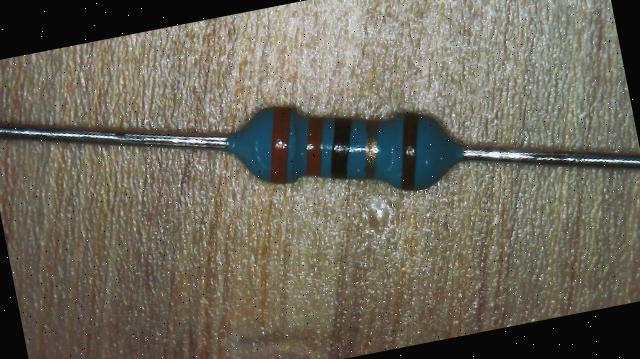black: (321, 116, 362, 180)
brown: (388, 110, 432, 190)
gold: (356, 116, 388, 179)
orange: (258, 104, 304, 184), (296, 114, 333, 176)
resistor: (217, 87, 467, 199)
